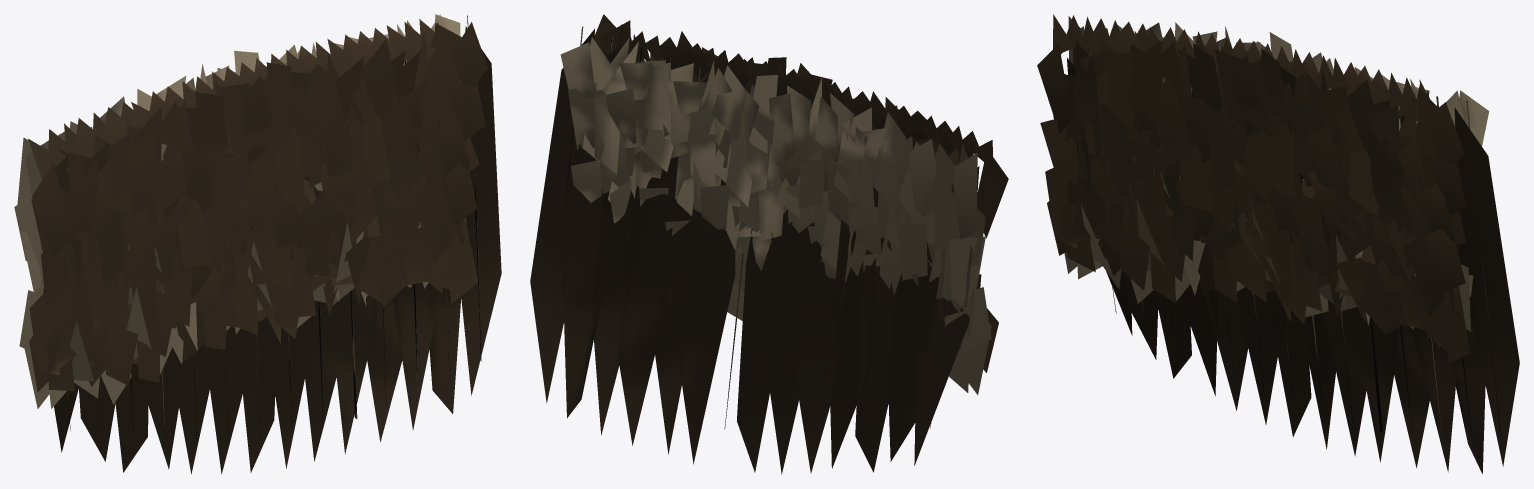
File: bird_shoulder_right.obj
3 renders of one model, left to right at view 1: azimuth 30°, elevation 25°; view 2: azimuth 150°, elevation 25°; view 3: azimuth 330°, elevation 25°, orthographic. The views are drawn at different scales.
Visible parts, largest first — view 1: PIECE_BIRD_SHOULDER_1; view 2: PIECE_BIRD_SHOULDER_1; view 3: PIECE_BIRD_SHOULDER_1.
Part boxes in pixels (box(x1,y1,x2,y2)): PIECE_BIRD_SHOULDER_1: box(14, 14, 501, 474); PIECE_BIRD_SHOULDER_1: box(530, 14, 1008, 474); PIECE_BIRD_SHOULDER_1: box(1037, 14, 1519, 473).
Bounding box in the file's own units: 0.2992 × 0.2552 × 0.043.
Materials: 1 (1 with a texture image).
